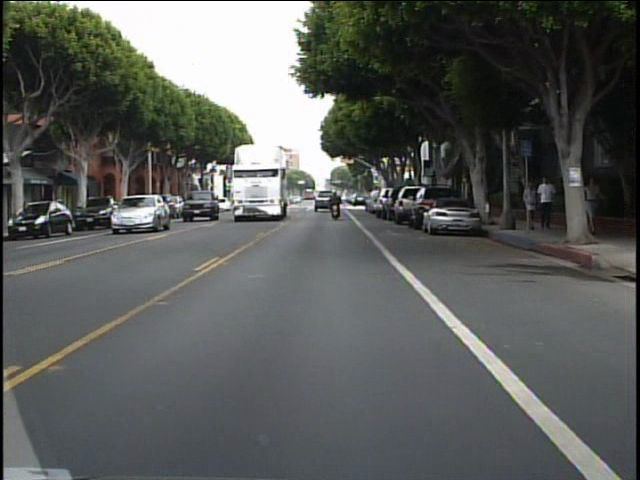person: (583, 172, 603, 236), (538, 175, 558, 233), (521, 176, 540, 232), (327, 188, 346, 220)
